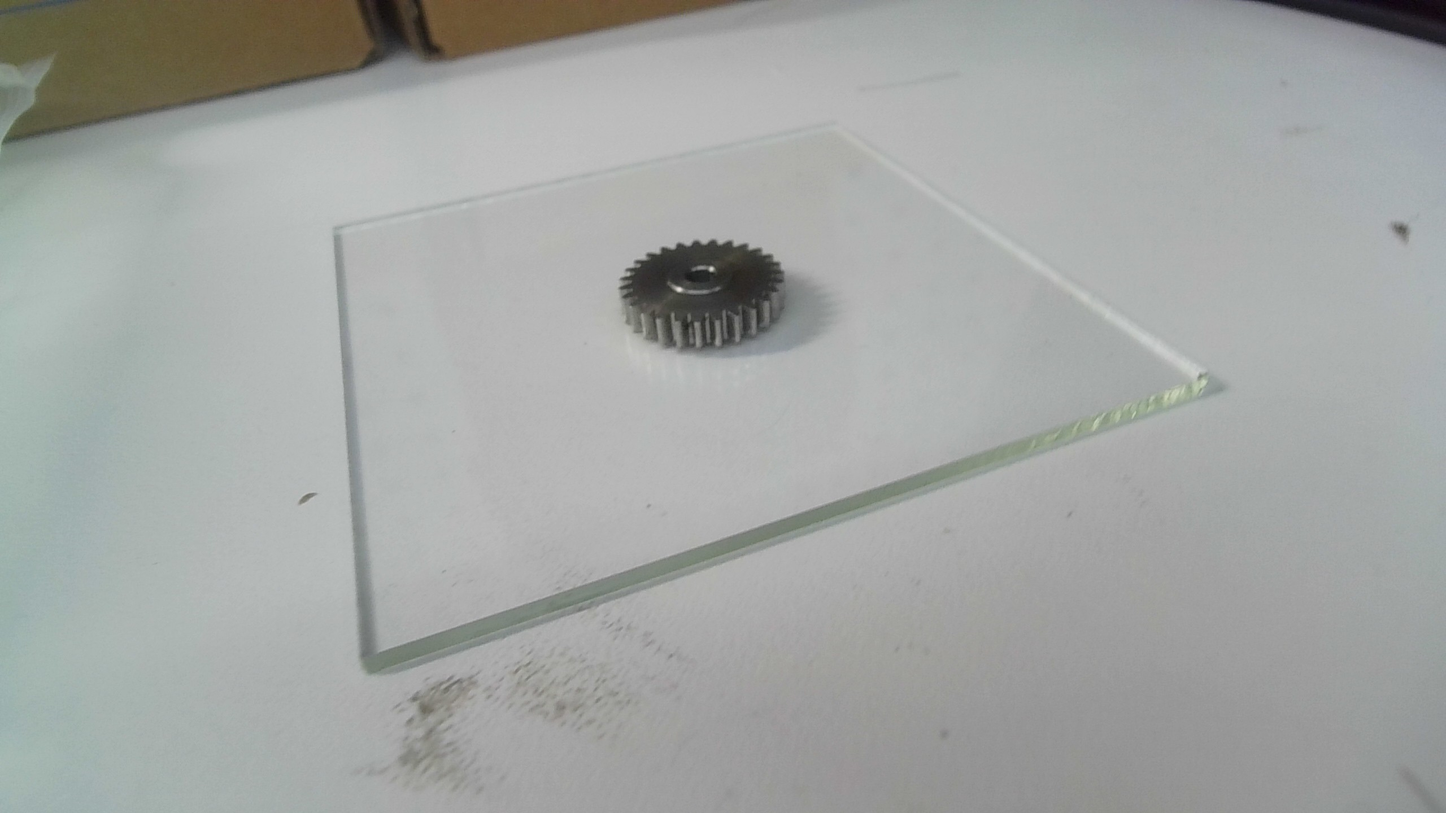gear: (617, 237, 788, 353)
